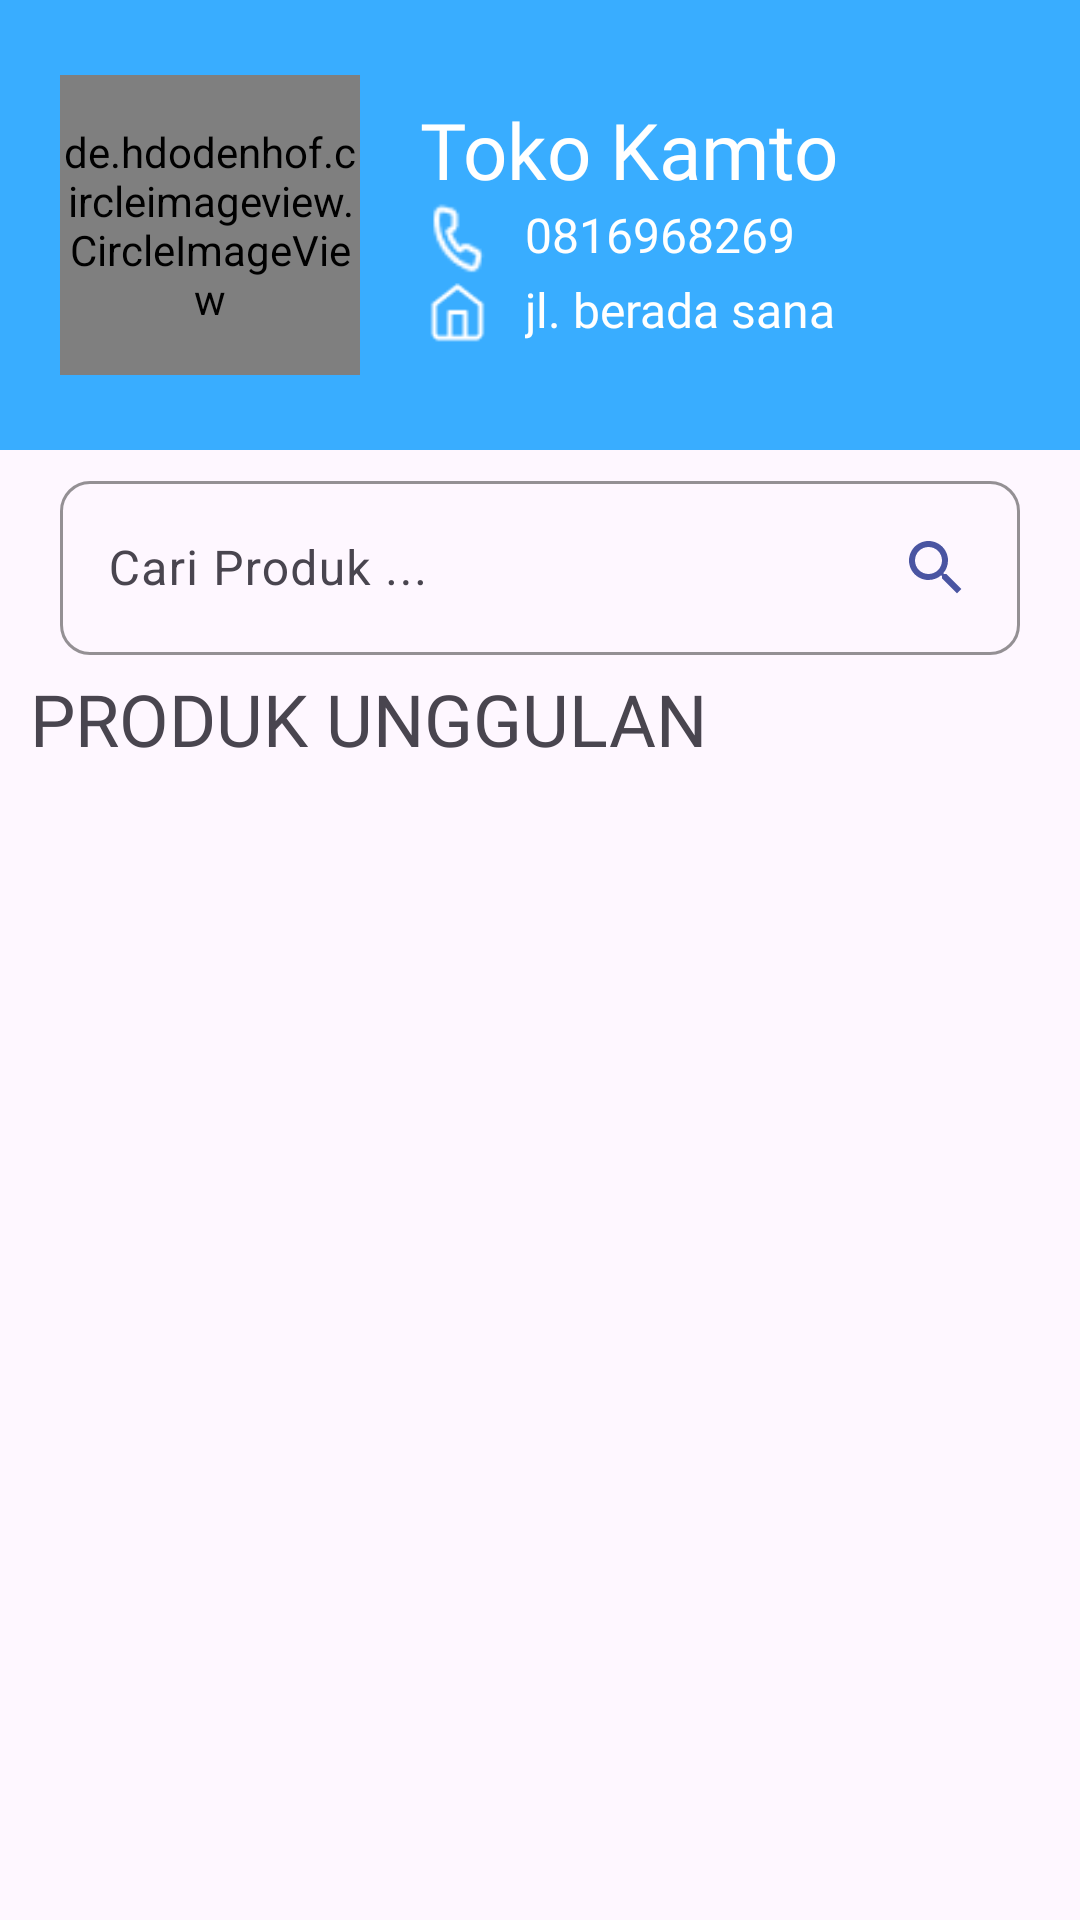

Named icons in this screenshot (1080*1920) and their centers, point (x, y):
home: point (457, 312)
phone: point (457, 238)
